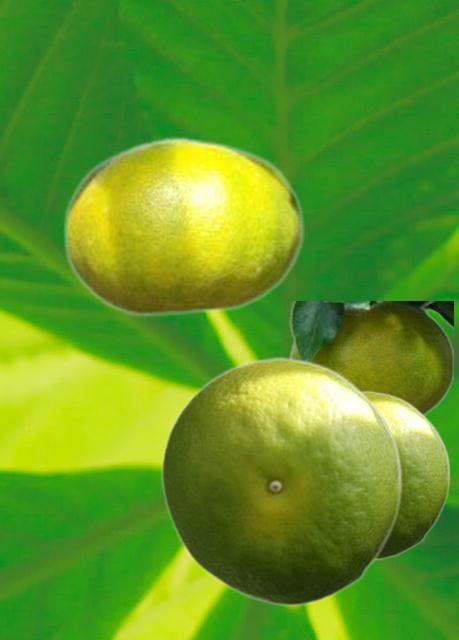dalandan: (160, 356, 401, 606), (62, 136, 303, 317), (289, 301, 452, 416), (362, 390, 449, 559)
